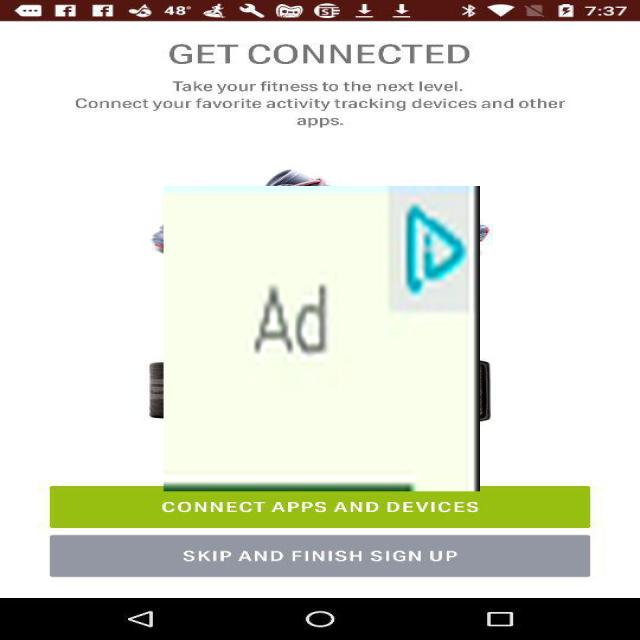sneaking: (164, 186, 480, 491)
